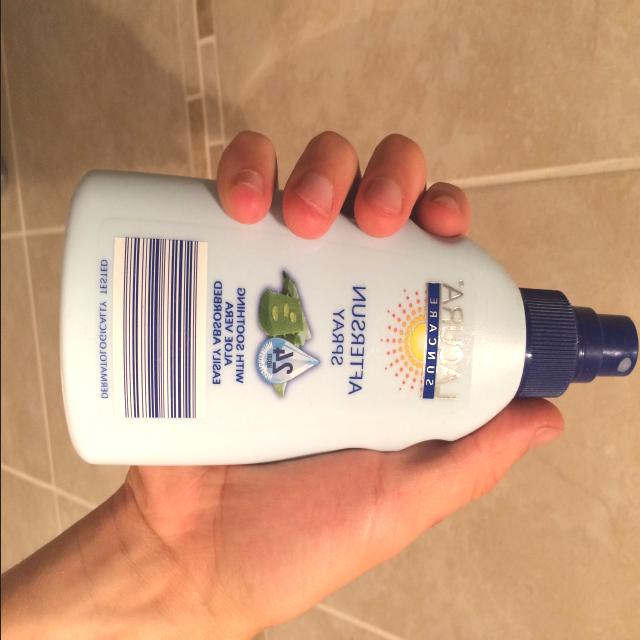Other plastic container: (58, 169, 638, 466)
